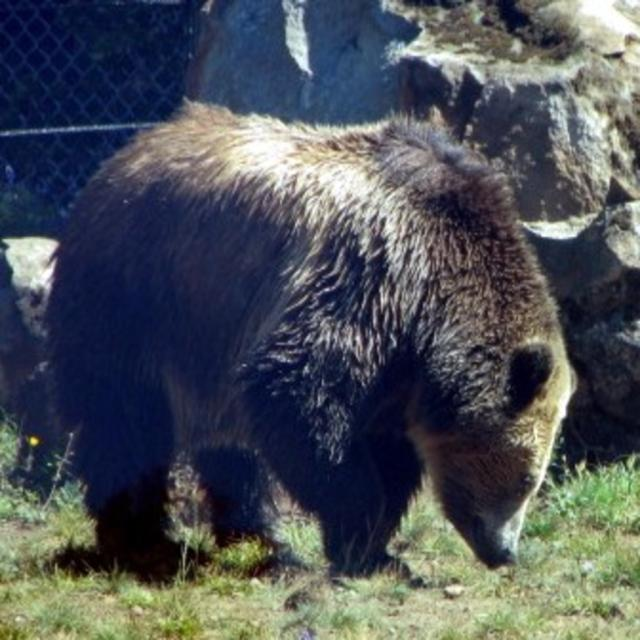Cheetahs: (26, 91, 572, 586)
